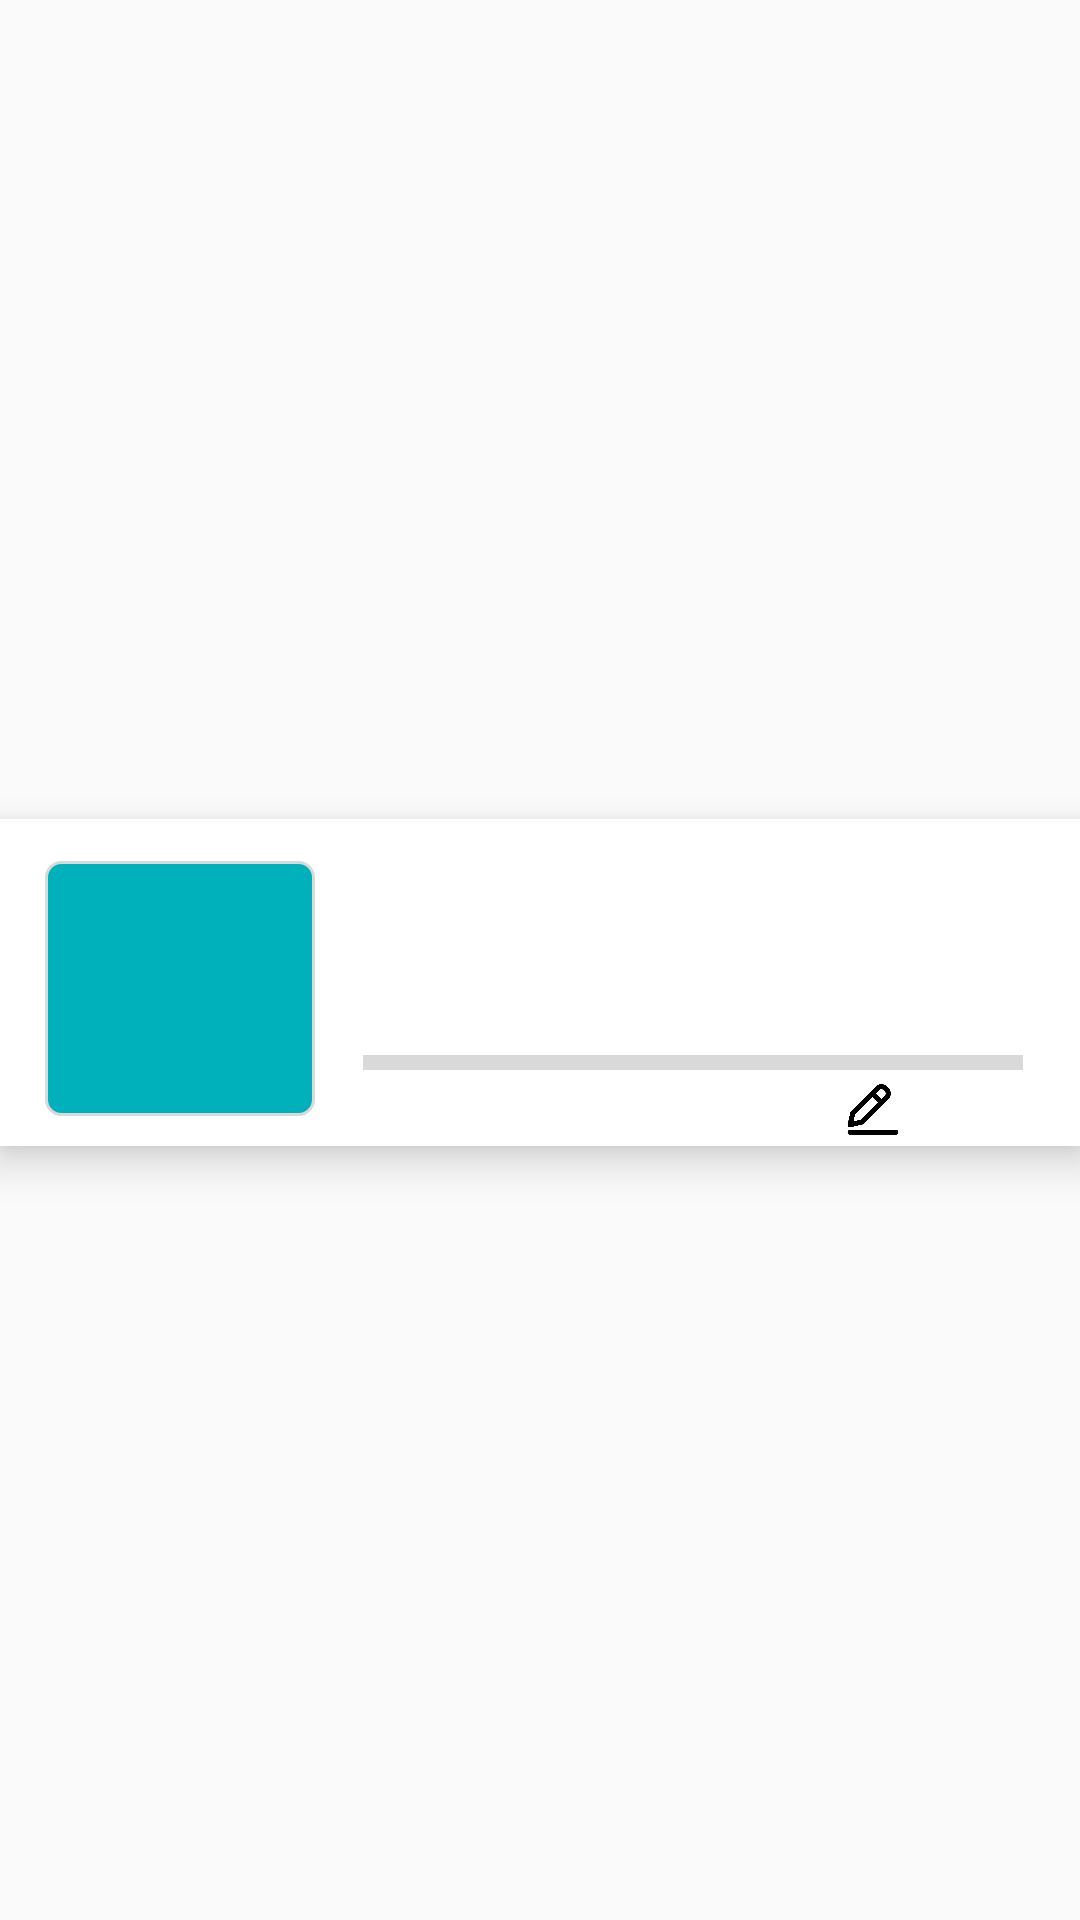

Named icons in this screenshot (1080×1920) and their centers, (x=x, y=y):
lapiz: (x=873, y=1109)
